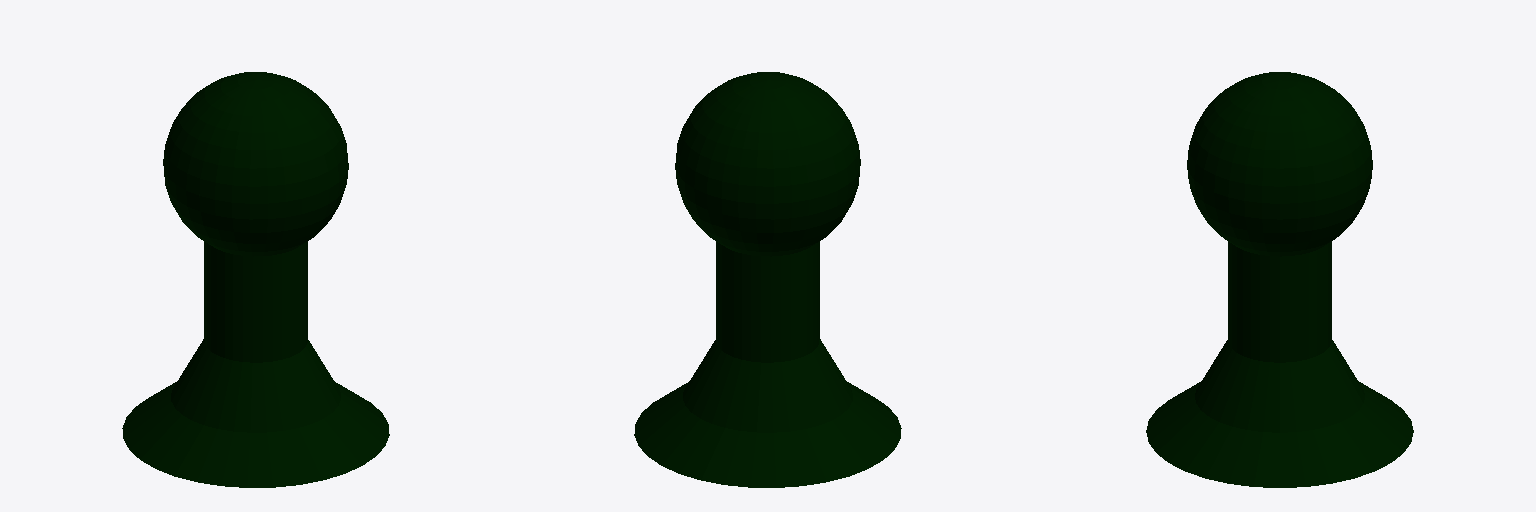
Rendered from pawn.obj.
3 renders of one model, left to right at view 1: azimuth 30°, elevation 25°; view 2: azimuth 150°, elevation 25°; view 3: azimuth 270°, elevation 25°, orthographic.
Parts seen in each view (by area): view 1: Sphere; view 2: Sphere; view 3: Sphere.
Part boxes in pixels (x1,y1,x2,y2): Sphere: (122,72,389,487); Sphere: (634,72,901,487); Sphere: (1146,72,1413,487).
Size of the model in its own units: 2.88 by 4.17 by 2.88.